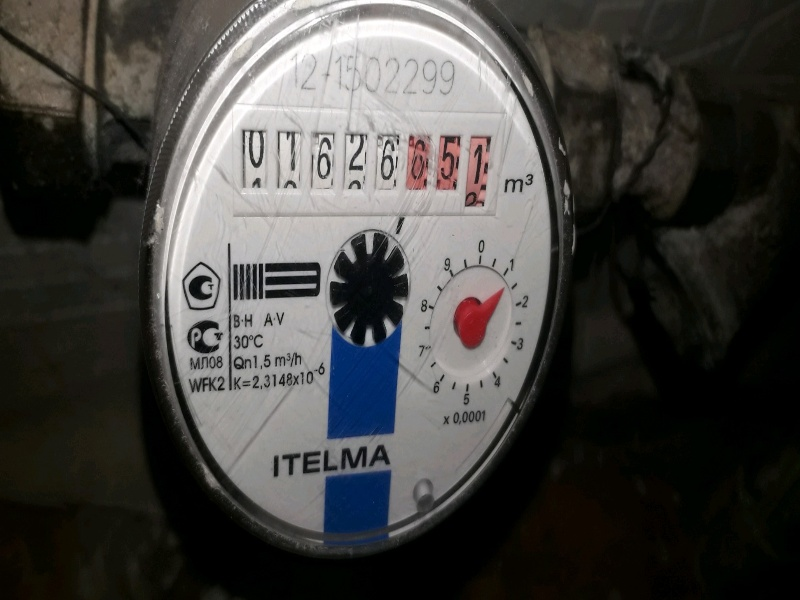meter: (227, 113, 492, 216)
